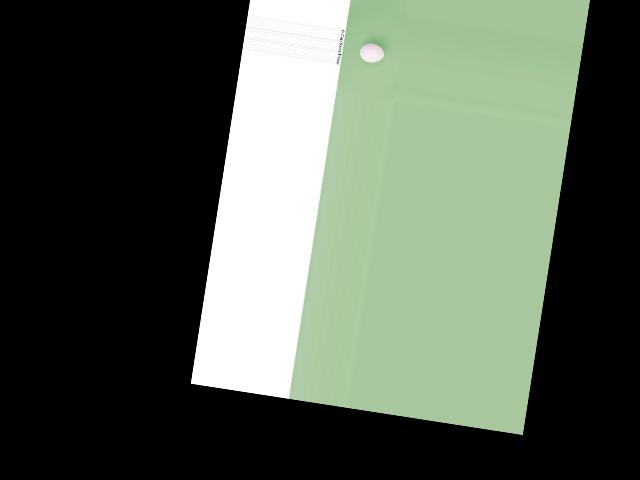egg: (358, 42, 385, 64)
